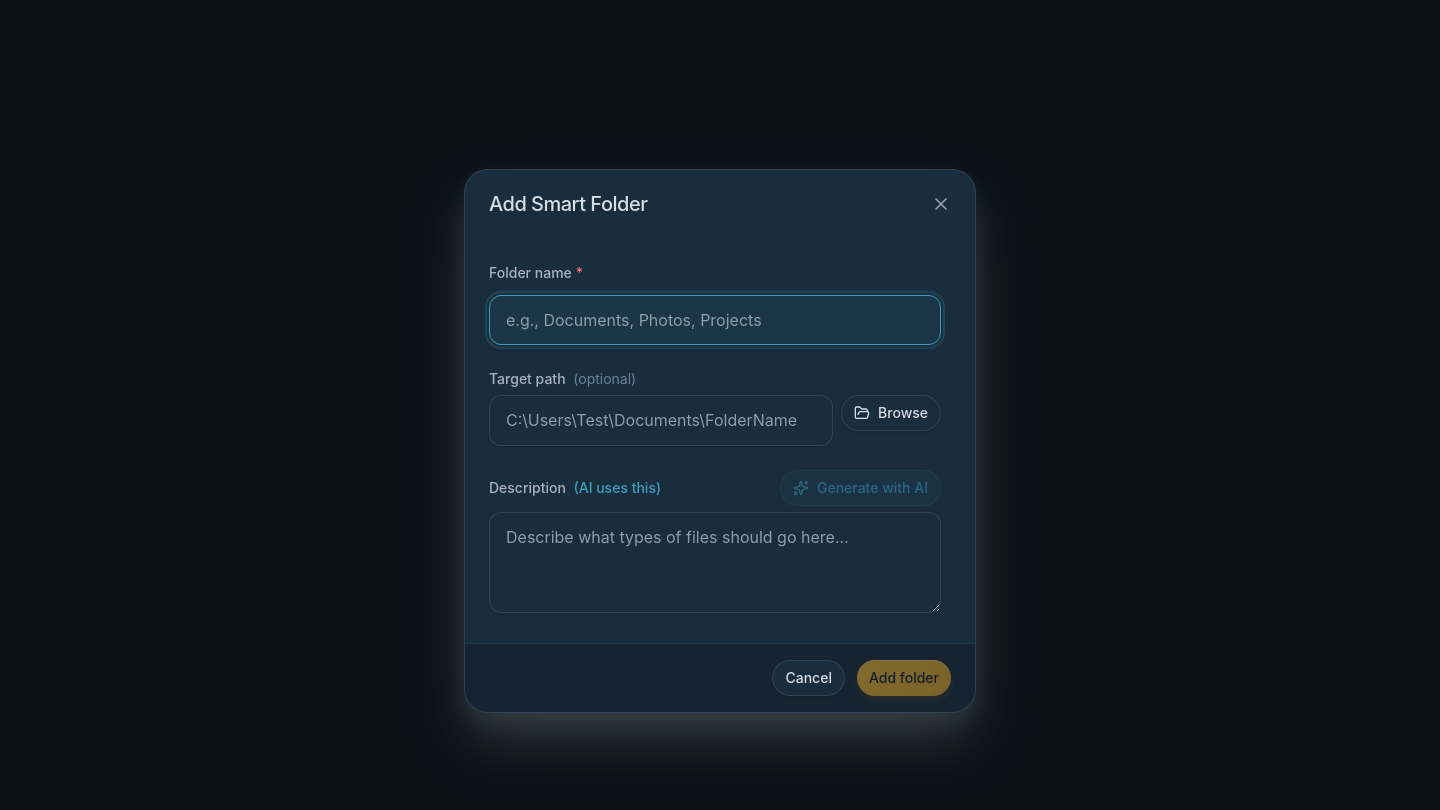
Test case: AddSmartFolderModal — Generate with AI feedback › surfaces a fallback hint when the backend returned a template description
Type "Resumes" into the field labelled "Folder name*". click: (715, 320)
box: [489,295,941,345]
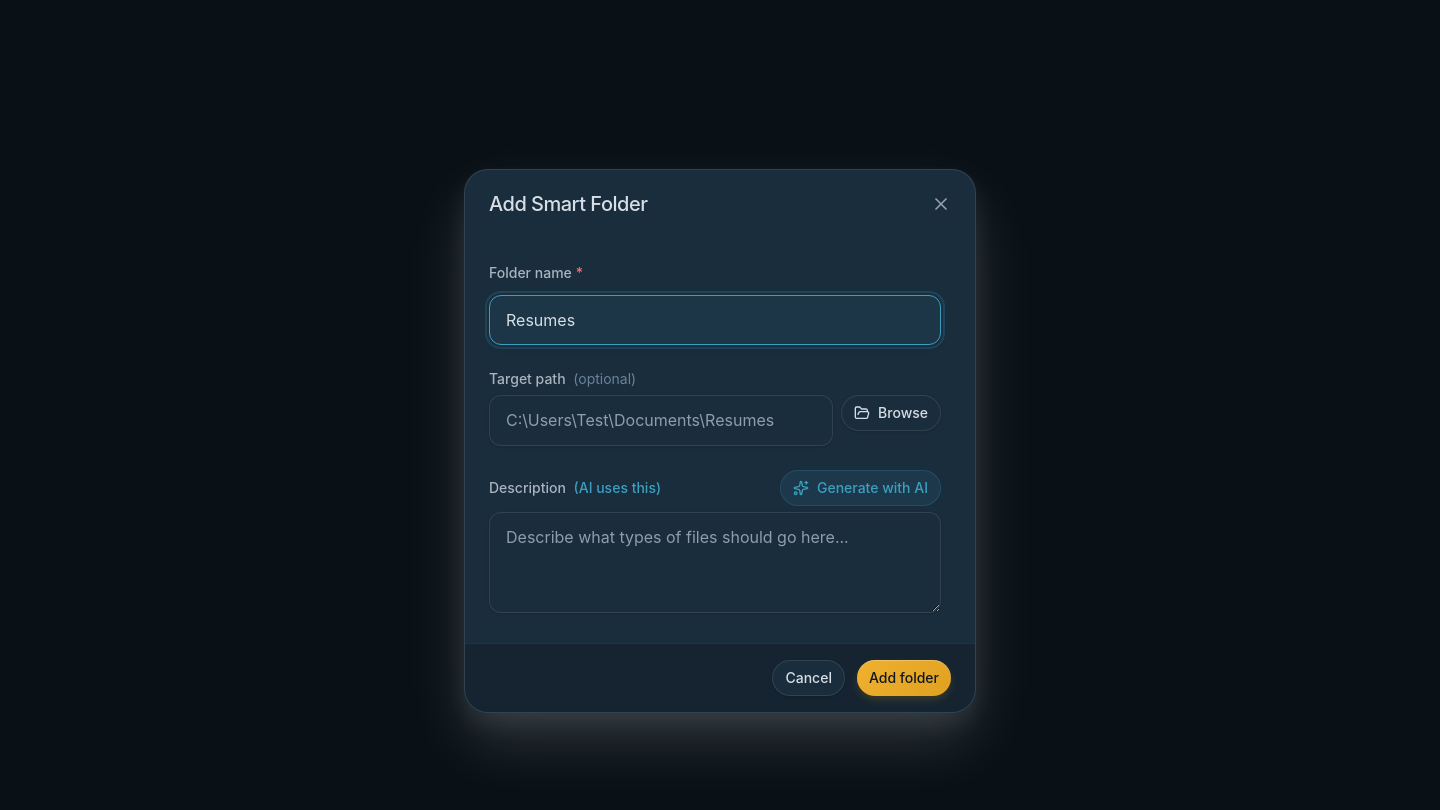
Click the button "Generate with AI". click: (860, 488)
box: [780,470,941,506]
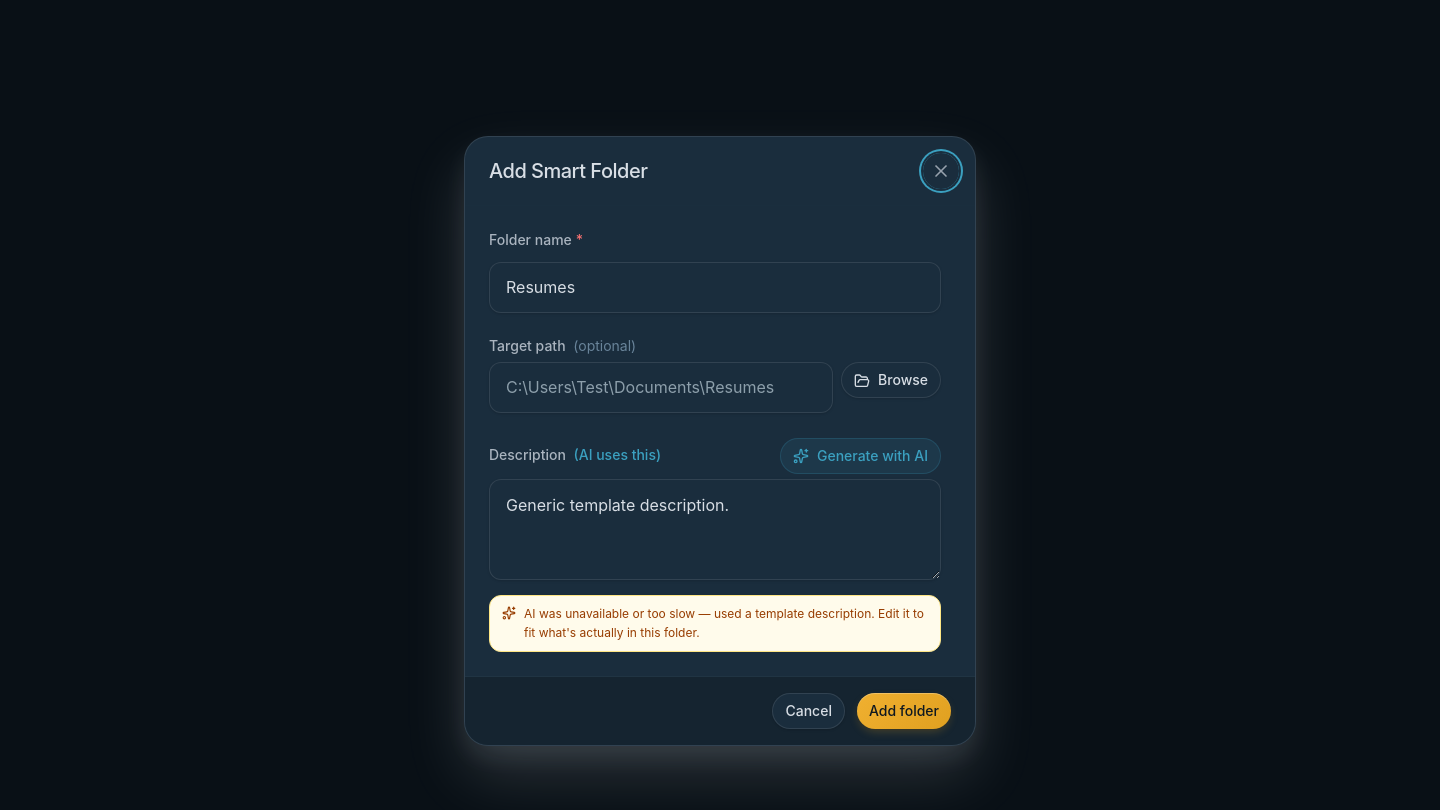
Result: the text box with placeholder "Describe what types of files should go here..." holds "Generic template description." at [489,480,941,580]
Result: the message shows "AI was unavailable or too slow" at [524,606,924,640]
